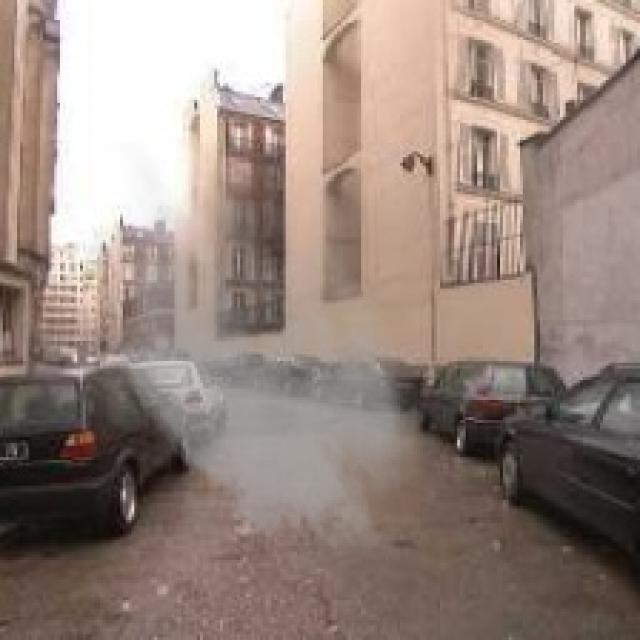smoke: (74, 143, 443, 566)
